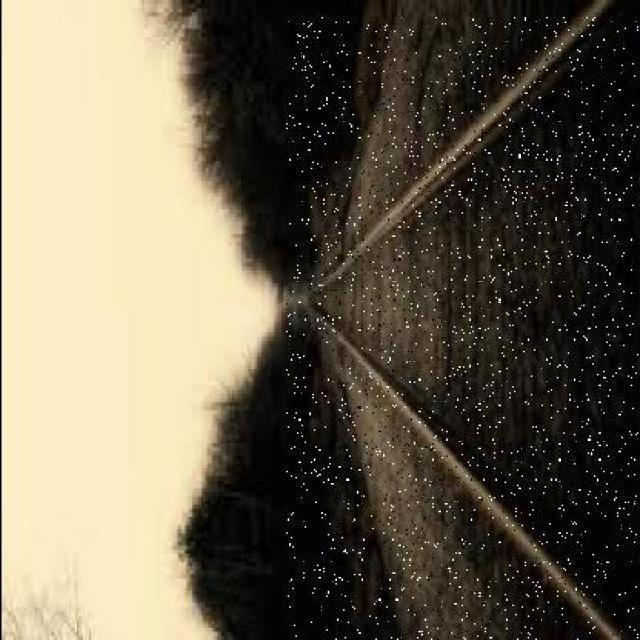rail: (286, 18, 638, 640)
